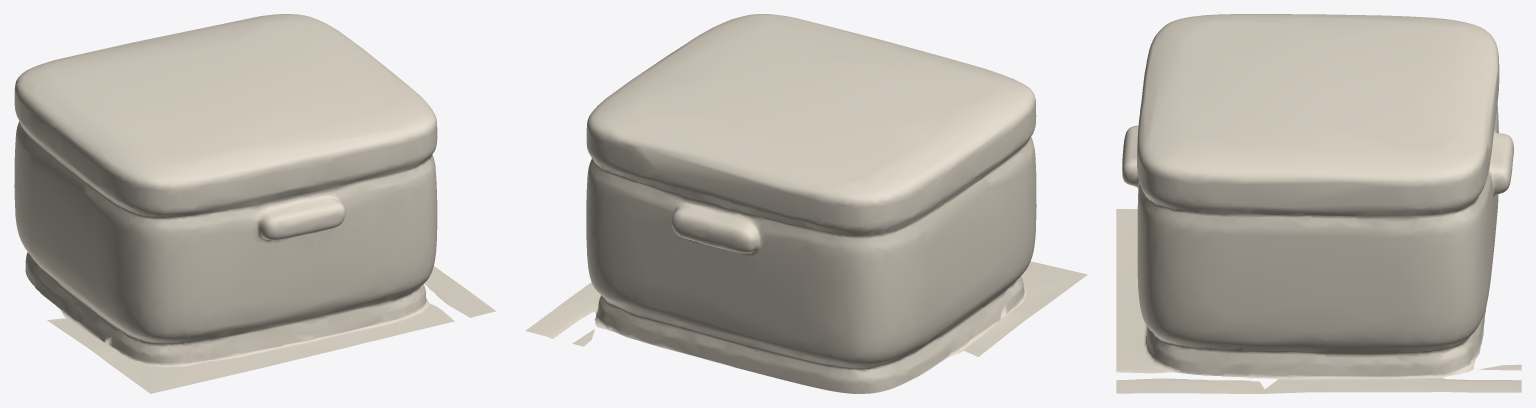
Rendered from study_pouf.glb.
3 renders of one model, left to right at view 1: azimuth 30°, elevation 25°; view 2: azimuth 150°, elevation 25°; view 3: azimuth 270°, elevation 25°, orthographic. The views are drawn at different scales.
Size of the model in its own units: 0.1862 by 0.1037 by 0.1746.
